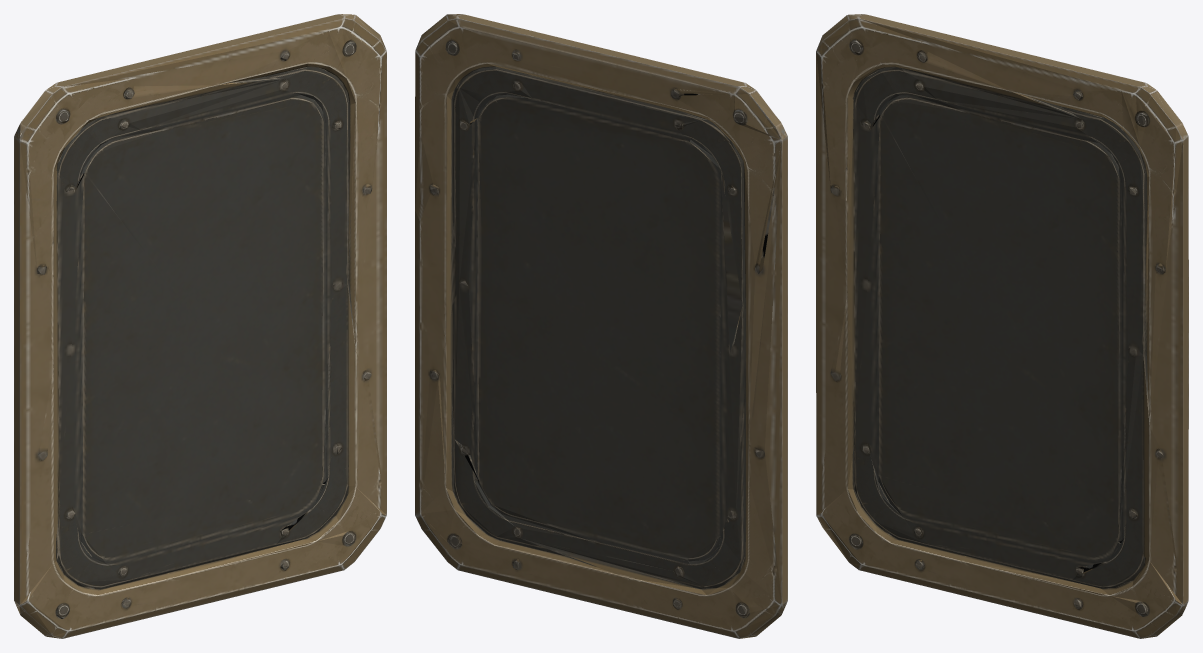
Rendered from lyuk-stvorka.glb.
3 views of the same model, side by side, from view 1: azimuth 30°, elevation 25°; view 2: azimuth 150°, elevation 25°; view 3: azimuth 330°, elevation 25° (orthographic).
Visible parts, largest first — view 1: lyuk-stvorka; view 2: lyuk-stvorka; view 3: lyuk-stvorka.
Part boxes in pixels (x1,y1,x2,y2): lyuk-stvorka: (14, 14, 386, 638); lyuk-stvorka: (415, 14, 787, 638); lyuk-stvorka: (816, 14, 1188, 638).
Bounding box in the file's own units: 1.6 × 2.3 × 0.08.
Materials: 1 (1 with a texture image).
